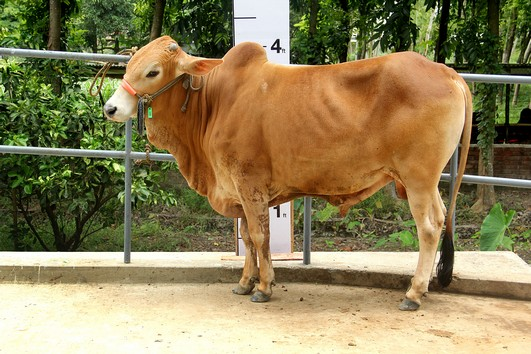cow: (102, 29, 478, 319)
